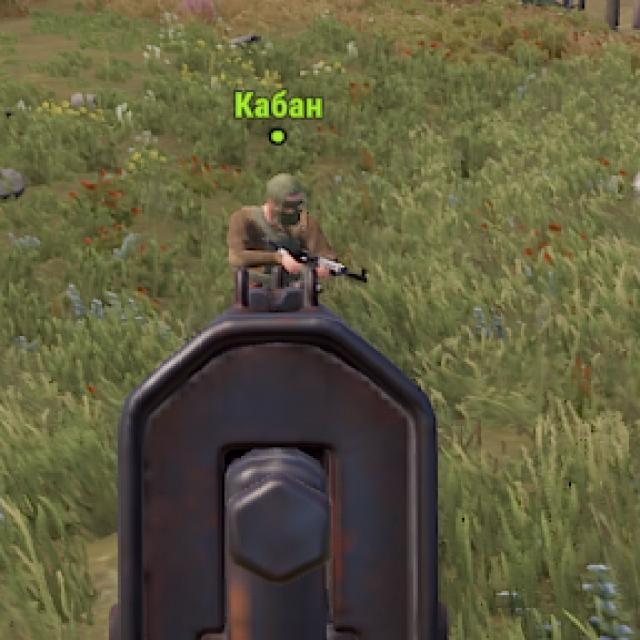Player: (231, 172, 339, 264)
